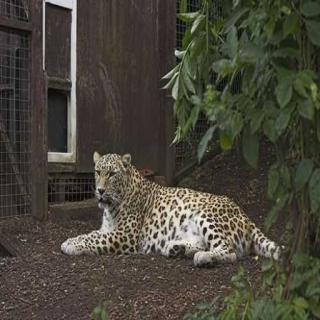Leopard: (64, 108, 320, 302)
